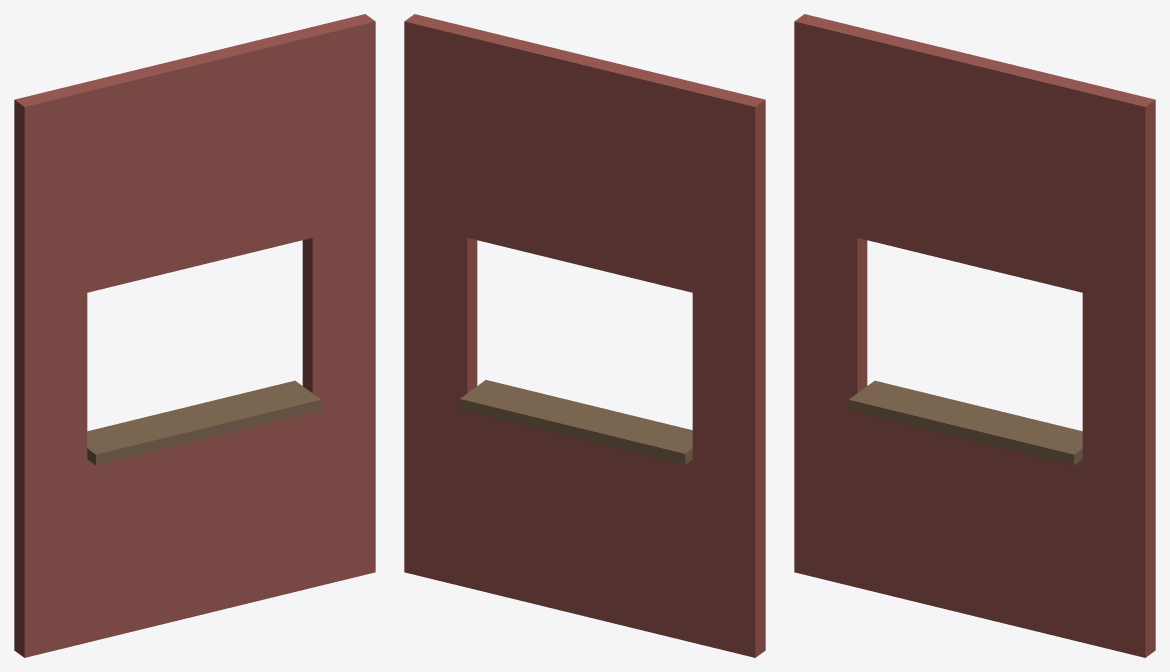
The model's file is Mesh_Wall_C3.fbx.
3 views of the same model, side by side, from view 1: azimuth 30°, elevation 25°; view 2: azimuth 150°, elevation 25°; view 3: azimuth 330°, elevation 25° (orthographic).
Parts seen in each view (by area): view 1: Mesh_Wall_C3; view 2: Mesh_Wall_C3; view 3: Mesh_Wall_C3.
Part boxes in pixels (x1,y1,x2,y2): Mesh_Wall_C3: (14, 14, 375, 657); Mesh_Wall_C3: (404, 14, 765, 657); Mesh_Wall_C3: (794, 14, 1155, 657).
Bounding box in the file's own units: 2 × 3 × 0.2574.
